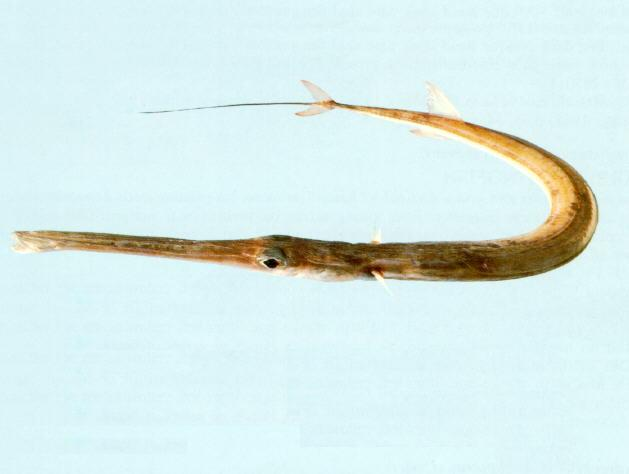Fistularia commersonii: (10, 76, 600, 290)
